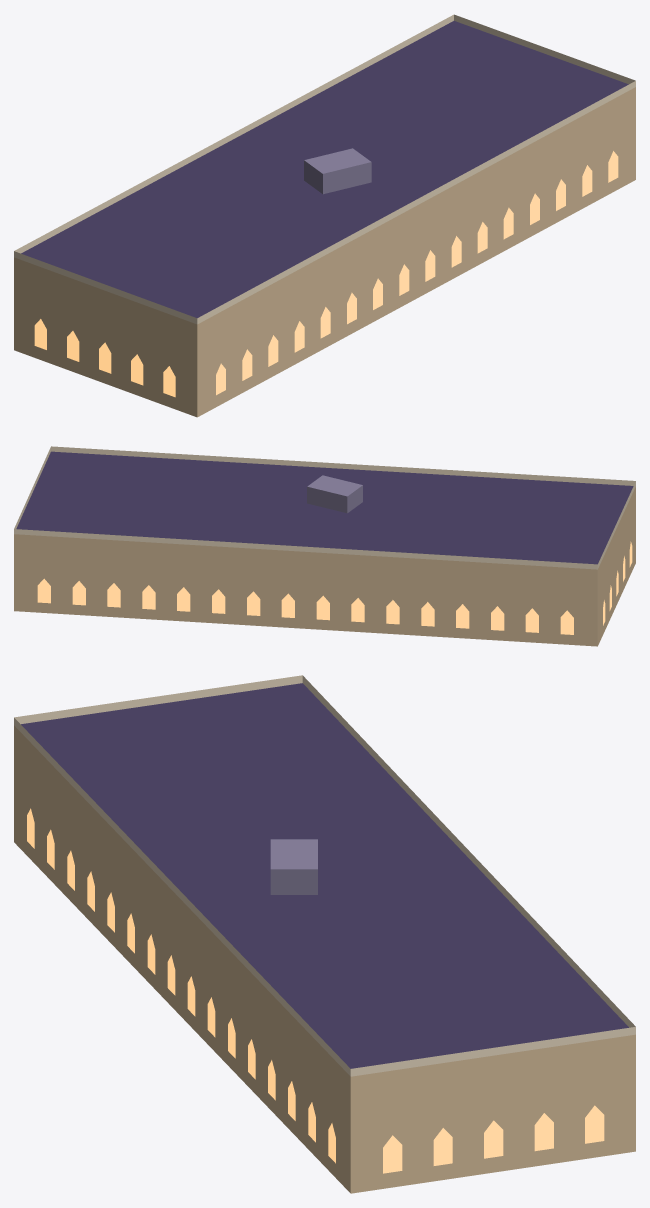
3 views of the same model, one above another, from view 1: azimuth 30°, elevation 25°; view 2: azimuth 150°, elevation 25°; view 3: azimuth 270°, elevation 25° (orthographic). The views are drawn at different scales.
Visible parts, largest first — view 1: campus/b-036-0; view 2: campus/b-036-0; view 3: campus/b-036-0.
Boxes of the visible parts, box(x1,y1,x2,y2) form: campus/b-036-0: box(14, 14, 635, 417); campus/b-036-0: box(14, 446, 635, 646); campus/b-036-0: box(14, 675, 635, 1193).
Bounding box in the file's own units: 59.18 × 10 × 39.52.
